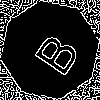B: (25, 25, 82, 79)
